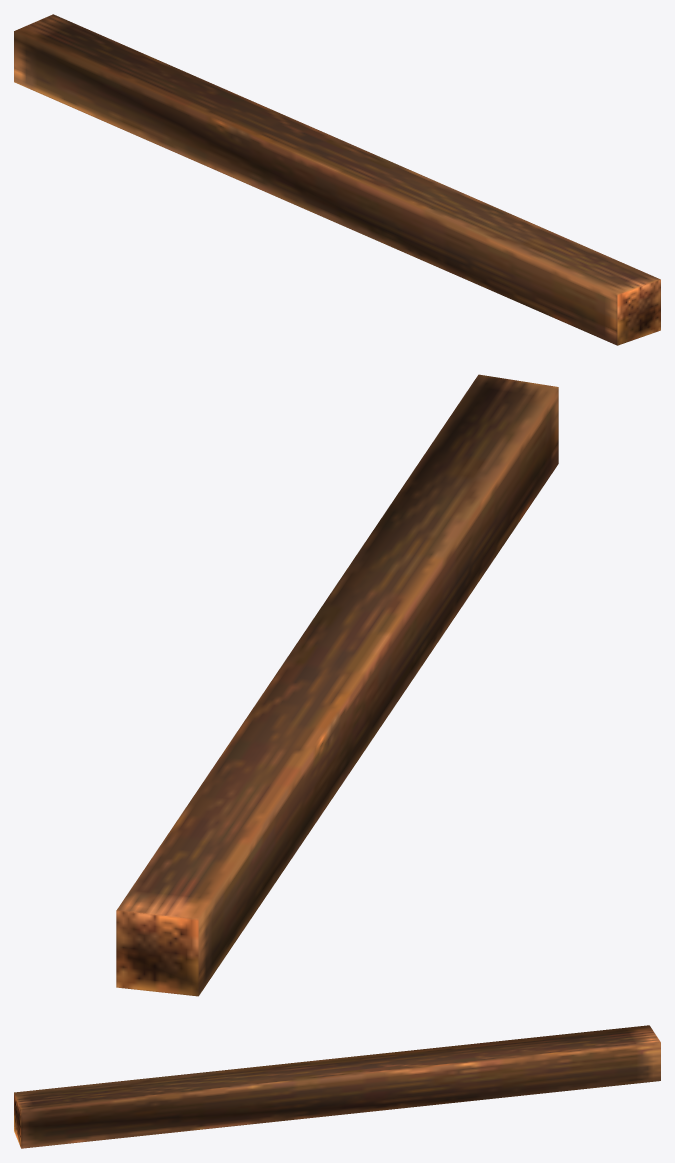
File: SWORDLIGHT20_JAILBRACE120.fbx
The picture shows the model from 3 angles, top to bottom: view 1: azimuth 30°, elevation 25°; view 2: azimuth 150°, elevation 25°; view 3: azimuth 270°, elevation 25°; orthographic projection. The views are drawn at different scales.
Parts seen in each view (by area): view 1: SWORDLIGHT20_JAILBRACE120; view 2: SWORDLIGHT20_JAILBRACE120; view 3: SWORDLIGHT20_JAILBRACE120.
Part boxes in pixels (bbox=[...]): SWORDLIGHT20_JAILBRACE120: bbox=[14, 14, 660, 345]; SWORDLIGHT20_JAILBRACE120: bbox=[116, 374, 558, 996]; SWORDLIGHT20_JAILBRACE120: bbox=[14, 1025, 660, 1148].
Bounding box in the file's own units: 18955 × 4000 × 60945.
1 material, 1 textured.
